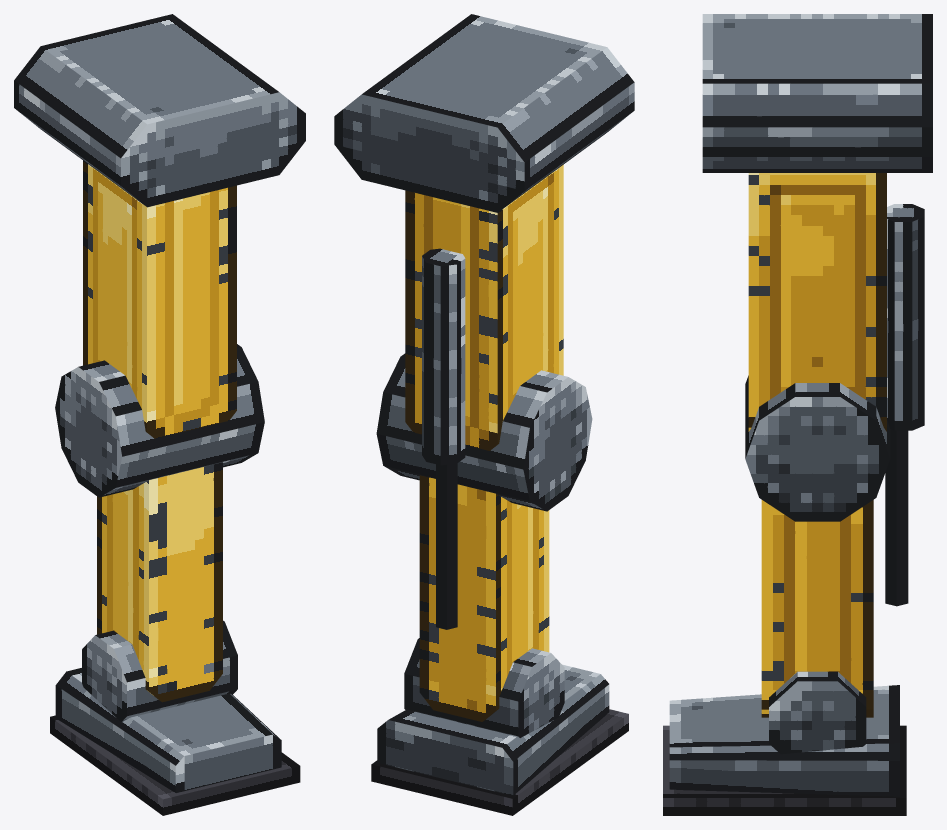
Rendered from cy_hydleg.glb.
The picture shows the model from 3 angles, left to right: view 1: azimuth 30°, elevation 25°; view 2: azimuth 150°, elevation 25°; view 3: azimuth 270°, elevation 25°; orthographic projection. The views are drawn at different scales.
Visible parts, largest first — view 1: cuff, thigh, shin, knee, foot, ankle, sole; view 2: cuff, thigh, shin, knee, foot, barrel, ankle, sole, rod; view 3: cuff, thigh, shin, foot, knee, barrel, ankle, sole, rod.
Part boxes in pixels (x1,y1,x2,y2): cuff: (14, 14, 305, 207); thigh: (83, 160, 236, 438); shin: (97, 462, 222, 702); knee: (55, 344, 264, 497); foot: (55, 668, 281, 792); ankle: (82, 620, 237, 722); sole: (50, 715, 300, 815); cuff: (334, 14, 634, 212); thigh: (405, 165, 563, 450); shin: (419, 475, 549, 721); knee: (376, 353, 592, 511); foot: (377, 664, 609, 795); barrel: (422, 248, 465, 465); ankle: (404, 638, 564, 737); sole: (371, 709, 628, 815); rod: (436, 463, 457, 629); cuff: (702, 14, 932, 172); thigh: (748, 173, 886, 431); shin: (761, 500, 873, 717); foot: (669, 685, 899, 796); knee: (745, 375, 890, 521); barrel: (887, 204, 924, 430); ankle: (769, 671, 866, 754); sole: (663, 725, 906, 815); rod: (885, 429, 908, 606).
Size of the model in its own units: 7 by 24.5 by 8.2.
1 material, 1 textured.
